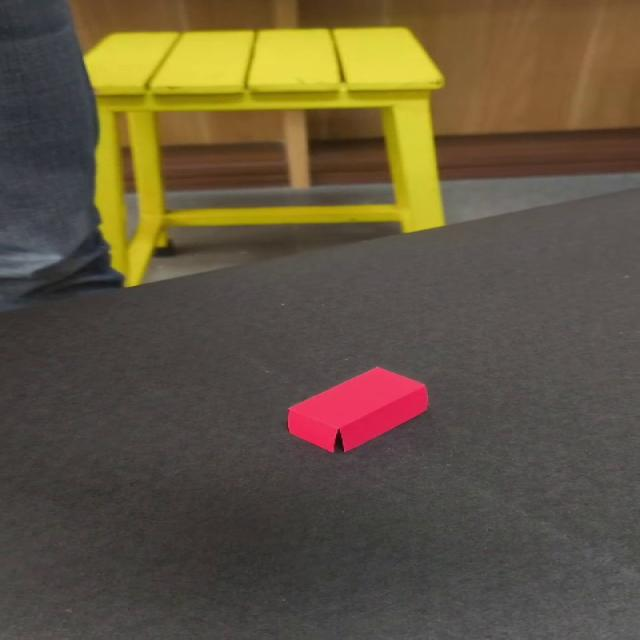red block: (286, 366, 430, 454)
